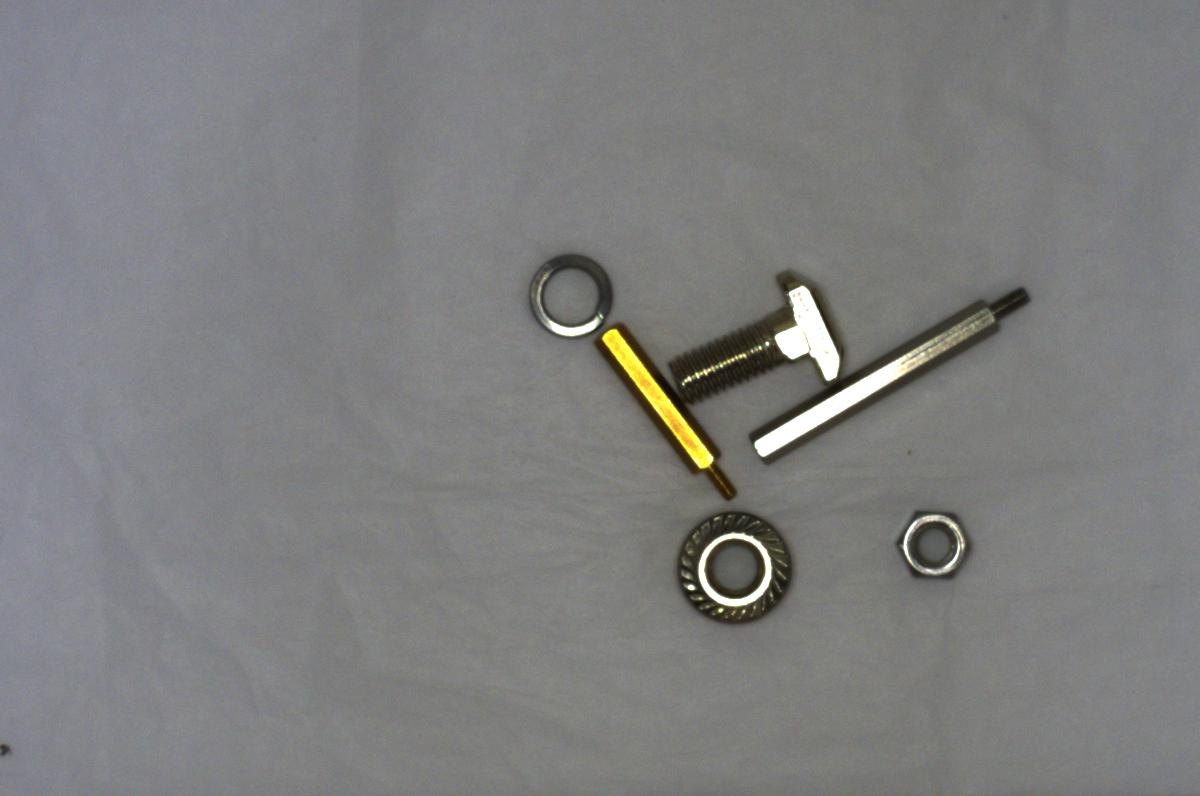Flange nut: (671, 506, 794, 633)
Hexagon nut: (884, 499, 982, 590)
Hexagon pillar: (588, 330, 737, 505)
Hexagonal steel column: (747, 269, 1039, 460)
Spring washer: (529, 248, 617, 340)
T-shaped screw: (664, 267, 844, 403)
